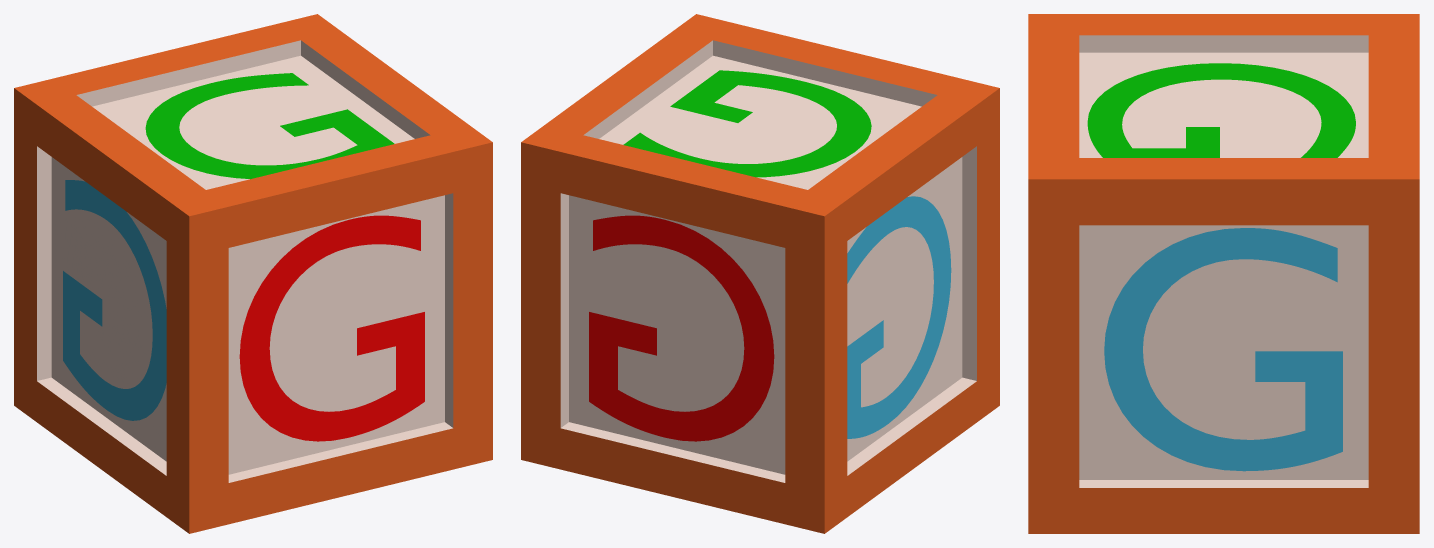
Rendered from Prop_KidsCube_G.fbx.
3 views of the same model, side by side, from view 1: azimuth 30°, elevation 25°; view 2: azimuth 150°, elevation 25°; view 3: azimuth 270°, elevation 25° (orthographic). The views are drawn at different scales.
Parts seen in each view (by area): view 1: Prop_KidsCube_G; view 2: Prop_KidsCube_G; view 3: Prop_KidsCube_G.
Boxes of the visible parts, box(x1,y1,x2,y2) form: Prop_KidsCube_G: box(14, 14, 492, 533); Prop_KidsCube_G: box(521, 14, 999, 533); Prop_KidsCube_G: box(1028, 14, 1419, 533).
Size of the model in its own units: 20.93 by 20.93 by 20.93.
1 material, 1 textured.
